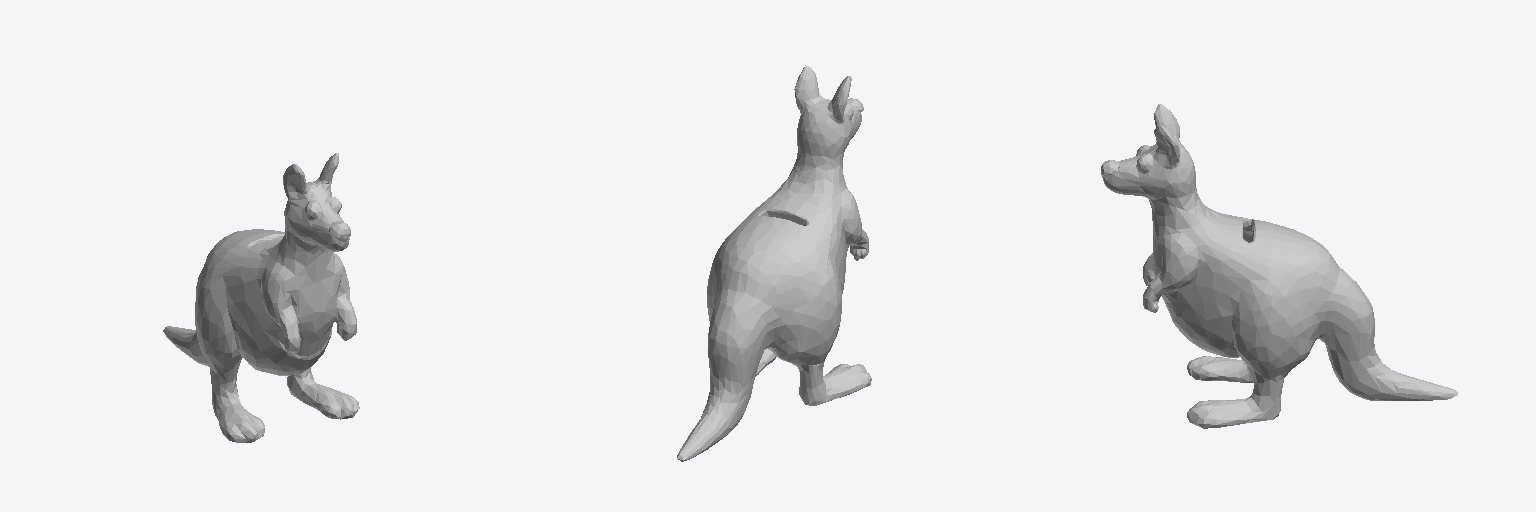
The model's file is kangaroo.obj.
The picture shows the model from 3 angles: view 1: azimuth 30°, elevation 25°; view 2: azimuth 150°, elevation 25°; view 3: azimuth 270°, elevation 25°; orthographic projection.
Parts seen in each view (by area): view 1: 16467_CoinBank_Kangaroo_V1; view 2: 16467_CoinBank_Kangaroo_V1; view 3: 16467_CoinBank_Kangaroo_V1.
Part boxes in pixels (left/top/right/bottom): 16467_CoinBank_Kangaroo_V1: left=163, top=153, right=359, bottom=442; 16467_CoinBank_Kangaroo_V1: left=677, top=65, right=871, bottom=461; 16467_CoinBank_Kangaroo_V1: left=1101, top=104, right=1457, bottom=428.
Bounding box in the file's own units: 2.36 × 4.86 × 5.58.